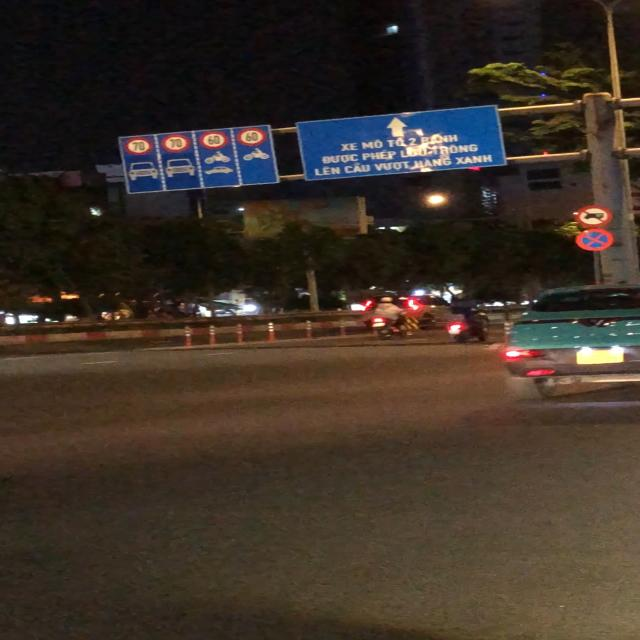Bien bao cam dung xe va do xe: (574, 229, 614, 252)
Bien bao cam xe oto tai: (573, 204, 617, 228)
Bien bao toc do toi da cho phep: (120, 136, 155, 156), (234, 127, 269, 147), (158, 134, 194, 153), (196, 131, 231, 150)
